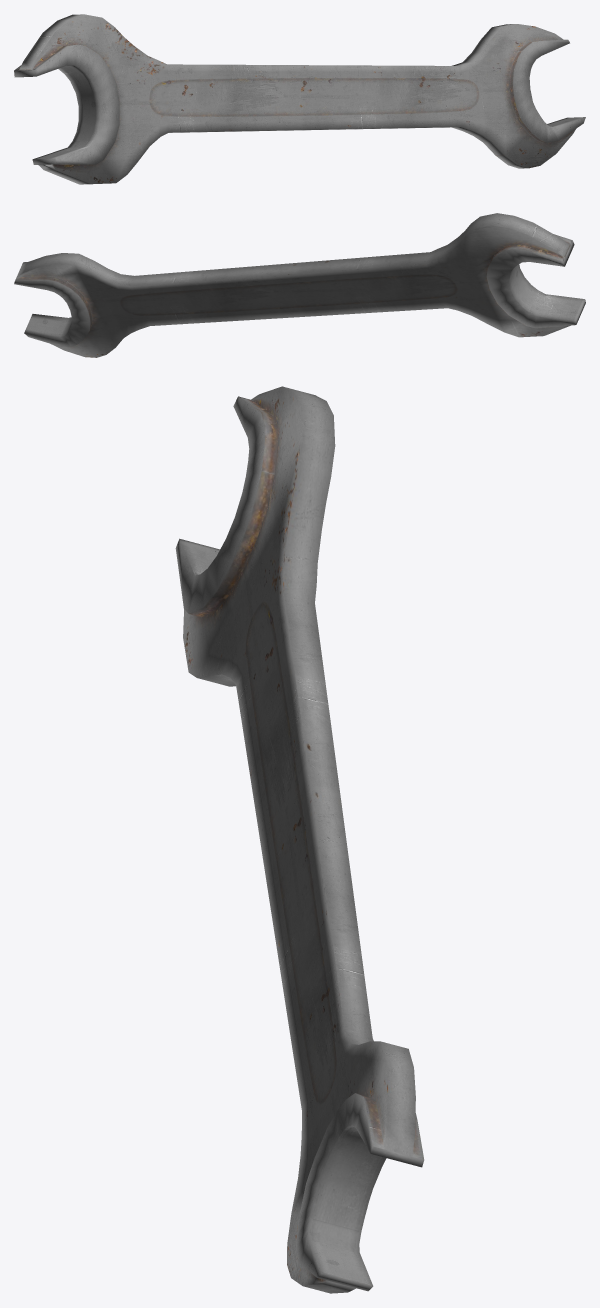
The picture shows the model from 3 angles, top to bottom: view 1: azimuth 30°, elevation 25°; view 2: azimuth 150°, elevation 25°; view 3: azimuth 270°, elevation 25°; orthographic projection. The views are drawn at different scales.
Visible parts, largest first — view 1: wrench_low; view 2: wrench_low; view 3: wrench_low.
Boxes of the visible parts, <box> form: wrench_low: <box>14,14,585,184</box>; wrench_low: <box>14,213,585,357</box>; wrench_low: <box>175,386,424,1293</box>.
Size of the model in its own units: 1.92 by 0.8383 by 0.3929.
Materials: 1 (1 with a texture image).
